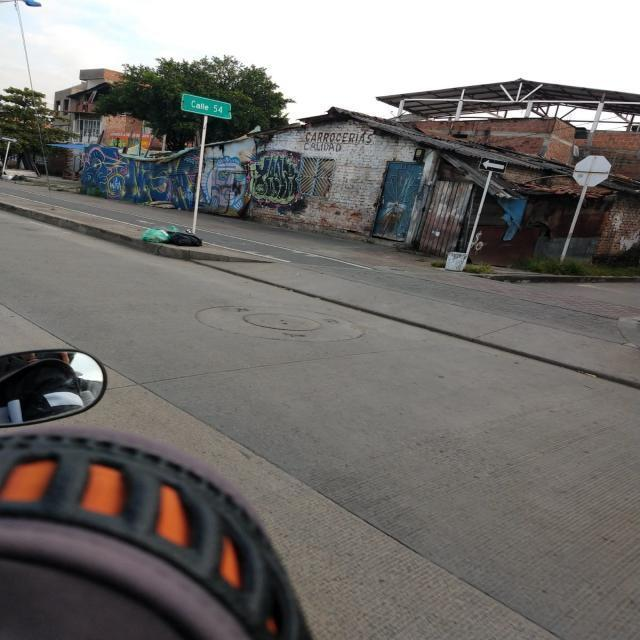Trashbag: (168, 228, 208, 252)
